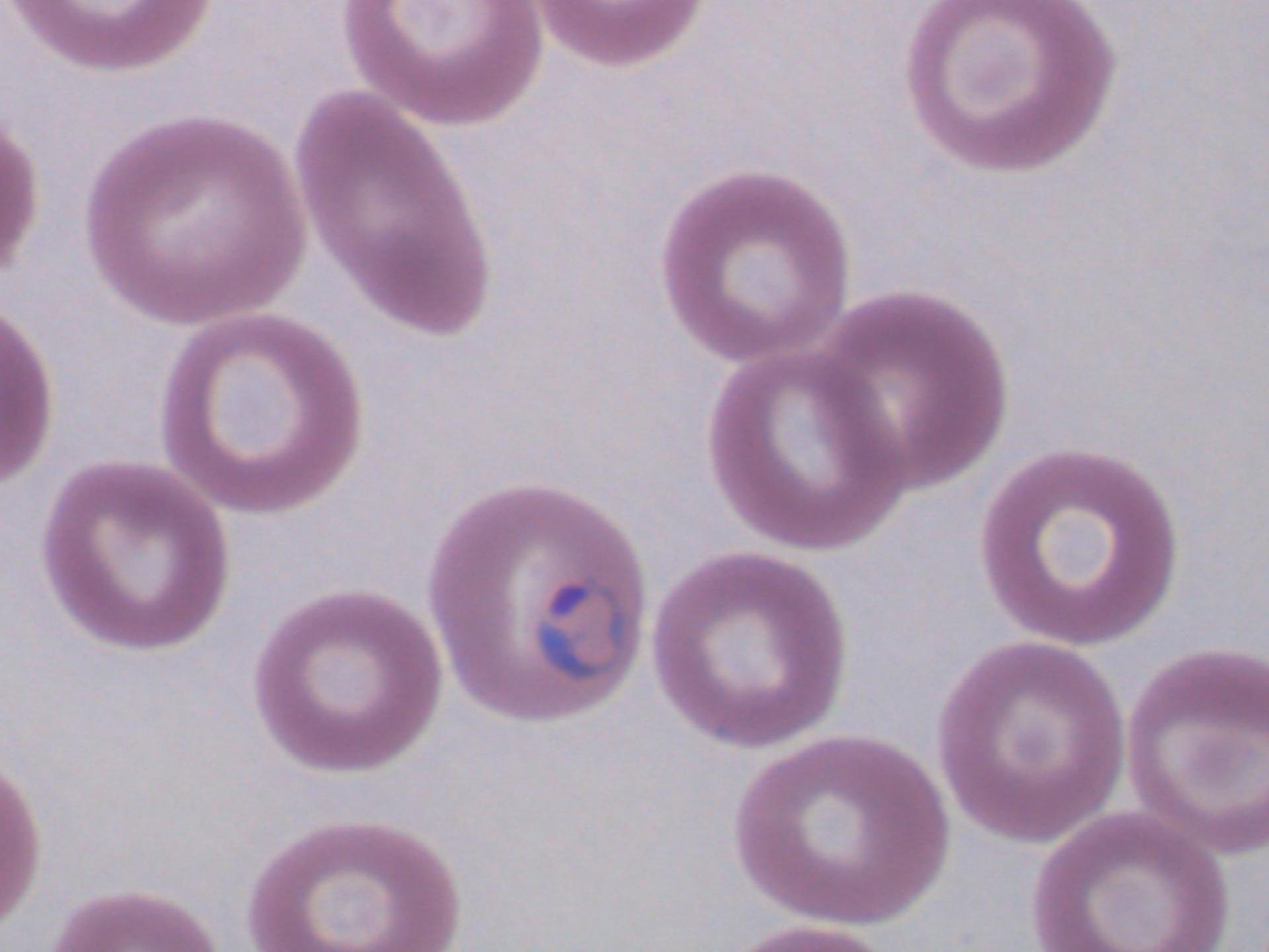Infected: (428, 488, 644, 719)
Uninfected: (297, 93, 488, 330), (91, 118, 302, 318), (712, 353, 909, 552), (159, 316, 356, 511), (738, 739, 944, 921), (981, 454, 1173, 640), (655, 556, 841, 743), (826, 294, 1008, 482), (670, 175, 853, 361), (942, 645, 1118, 836), (905, 0, 1106, 166), (254, 596, 441, 771), (44, 464, 225, 644), (1132, 653, 1266, 849), (252, 826, 453, 952), (1038, 816, 1223, 948), (350, 2, 536, 122)
